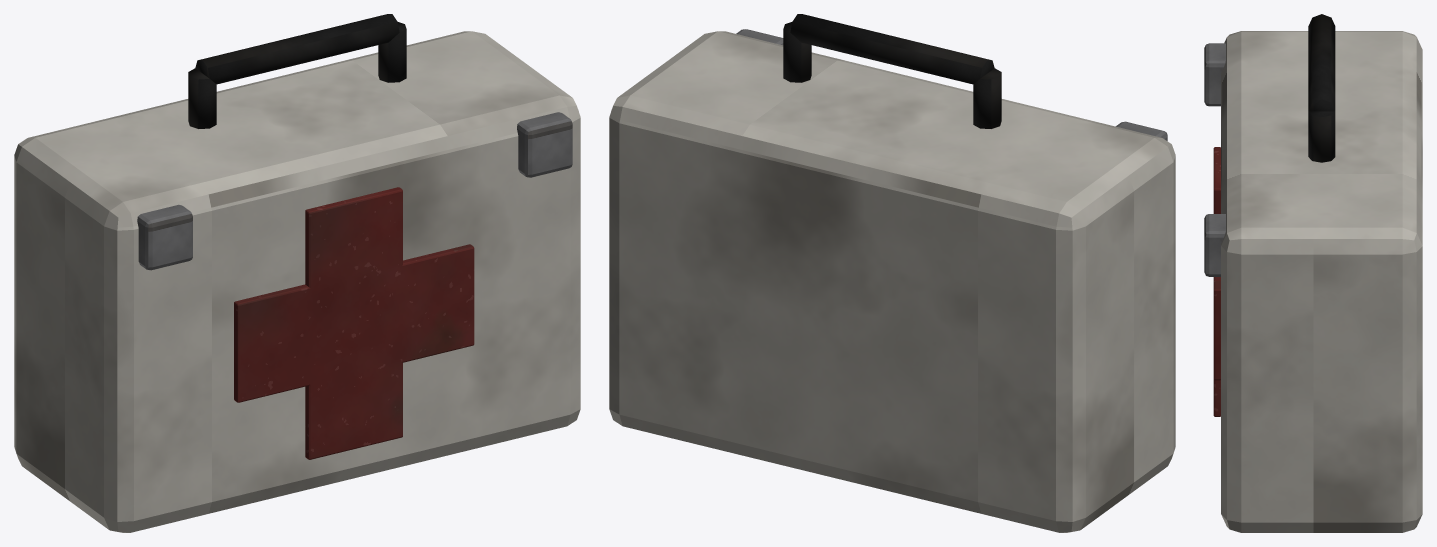
Rendered from G09_first_aid_kit.glb.
The picture shows the model from 3 angles, left to right: view 1: azimuth 30°, elevation 25°; view 2: azimuth 150°, elevation 25°; view 3: azimuth 270°, elevation 25°; orthographic projection. The views are drawn at different scales.
Parts seen in each view (by area): view 1: G09_first_aid_kit; view 2: G09_first_aid_kit; view 3: G09_first_aid_kit.
Boxes of the visible parts, left/top/right/bottom form: G09_first_aid_kit: left=14, top=14, right=580, bottom=532; G09_first_aid_kit: left=609, top=14, right=1175, bottom=532; G09_first_aid_kit: left=1204, top=14, right=1422, bottom=532.
Bounding box in the file's own units: 0.3 × 0.248 × 0.13.
4 materials, 4 textured.
